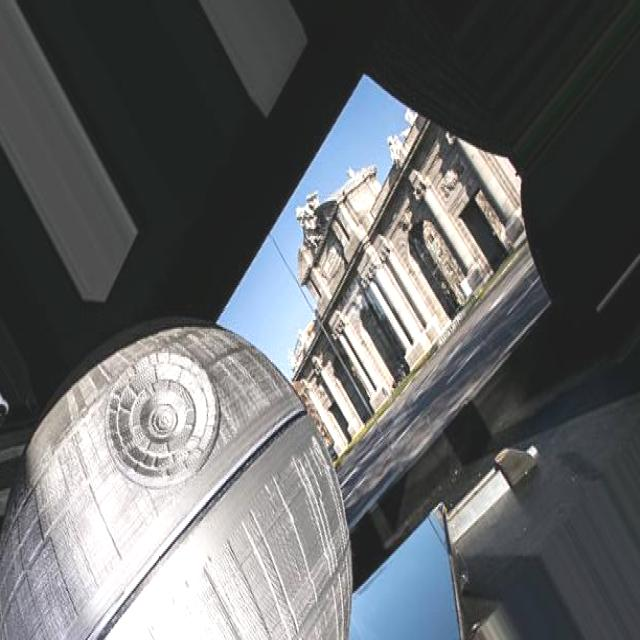deathstar: (0, 325, 351, 640)
